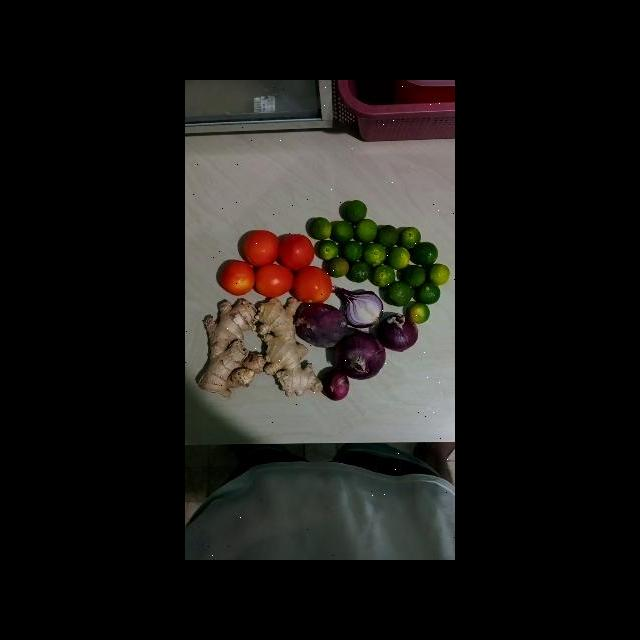ginger: (244, 294, 332, 401), (195, 291, 272, 400)
onion: (330, 326, 395, 385), (328, 277, 392, 333), (292, 298, 352, 350), (373, 308, 425, 356), (318, 365, 361, 404)
